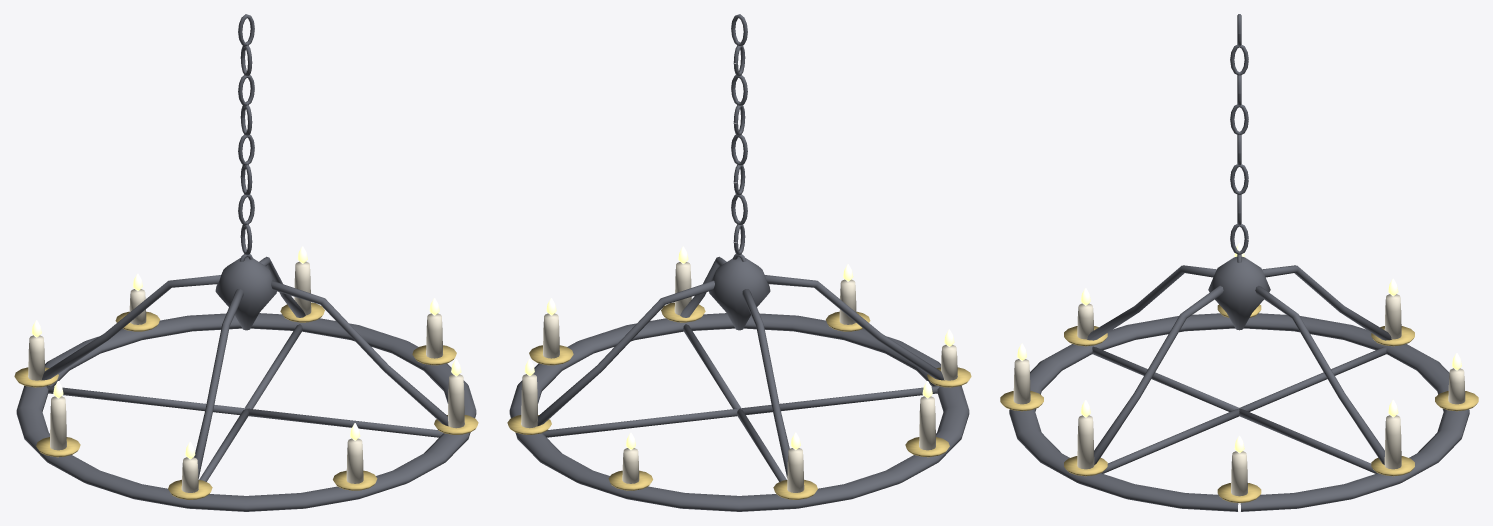
File: tavern_chandelier.glb
The picture shows the model from 3 angles, left to right: view 1: azimuth 30°, elevation 25°; view 2: azimuth 150°, elevation 25°; view 3: azimuth 270°, elevation 25°; orthographic projection.
Parts seen in each view (by area): view 1: ChandWheel, ChandHub, ChandArm_3, ChandArm_1, ChandArm_2, ChandSpoke_3, ChandSpoke_1, CandleWax_4, CandleWax_7, ChandSpoke_0, CandleWax_6, CandleWax_0 (+8 smaller); view 2: ChandWheel, ChandHub, ChandArm_0, ChandArm_2, ChandSpoke_0, ChandArm_1, ChandSpoke_2, CandleWax_1, CandleWax_4, ChandSpoke_3, CandleWax_3, CandleWax_0 (+9 smaller); view 3: ChandWheel, ChandHub, ChandArm_0, ChandArm_3, ChandArm_1, ChandArm_2, ChandSpoke_1, ChandSpoke_2, ChandSpoke_0, ChandSpoke_3, CandleWax_1, CandleWax_7 (+8 smaller).
Part boxes in pixels (x1=…): ChandWheel: x1=16, y1=313, x2=476, y2=511; ChandHub: x1=215, y1=257, x2=276, y2=330; ChandArm_3: x1=271, y1=280, x2=448, y2=426; ChandArm_1: x1=41, y1=275, x2=220, y2=380; ChandArm_2: x1=194, y1=289, x2=243, y2=478; ChandSpoke_3: x1=247, y1=408, x2=443, y2=437; ChandSpoke_1: x1=46, y1=386, x2=245, y2=414; CandleWax_4: x1=50, y1=396, x2=66, y2=450; CandleWax_7: x1=448, y1=374, x2=464, y2=428; ChandSpoke_0: x1=245, y1=324, x2=302, y2=408; CandleWax_6: x1=346, y1=438, x2=363, y2=483; CandleWax_0: x1=426, y1=313, x2=442, y2=358; ChandWheel: x1=509, y1=313, x2=969, y2=511; ChandHub: x1=709, y1=257, x2=770, y2=330; ChandArm_0: x1=537, y1=280, x2=714, y2=426; ChandArm_2: x1=765, y1=275, x2=944, y2=380; ChandSpoke_0: x1=542, y1=408, x2=738, y2=437; ChandArm_1: x1=742, y1=289, x2=789, y2=477; ChandSpoke_2: x1=740, y1=386, x2=939, y2=414; CandleWax_1: x1=521, y1=374, x2=537, y2=428; CandleWax_4: x1=919, y1=396, x2=935, y2=450; ChandSpoke_3: x1=683, y1=324, x2=740, y2=408; CandleWax_3: x1=787, y1=448, x2=804, y2=492; CandleWax_0: x1=543, y1=313, x2=559, y2=358; ChandWheel: x1=1009, y1=313, x2=1469, y2=511; ChandHub: x1=1208, y1=256, x2=1270, y2=330; ChandArm_0: x1=1255, y1=285, x2=1384, y2=464; ChandArm_3: x1=1094, y1=285, x2=1223, y2=464; ChandArm_1: x1=1262, y1=265, x2=1391, y2=340; ChandArm_2: x1=1087, y1=265, x2=1216, y2=340; ChandSpoke_1: x1=1239, y1=346, x2=1386, y2=411; ChandSpoke_2: x1=1092, y1=346, x2=1239, y2=411; ChandSpoke_0: x1=1239, y1=408, x2=1377, y2=473; ChandSpoke_3: x1=1101, y1=408, x2=1239, y2=473; CandleWax_1: x1=1384, y1=415, x2=1401, y2=469; CandleWax_7: x1=1077, y1=415, x2=1094, y2=469.
Size of the model in its own units: 1.46 by 1.35 by 1.45.
